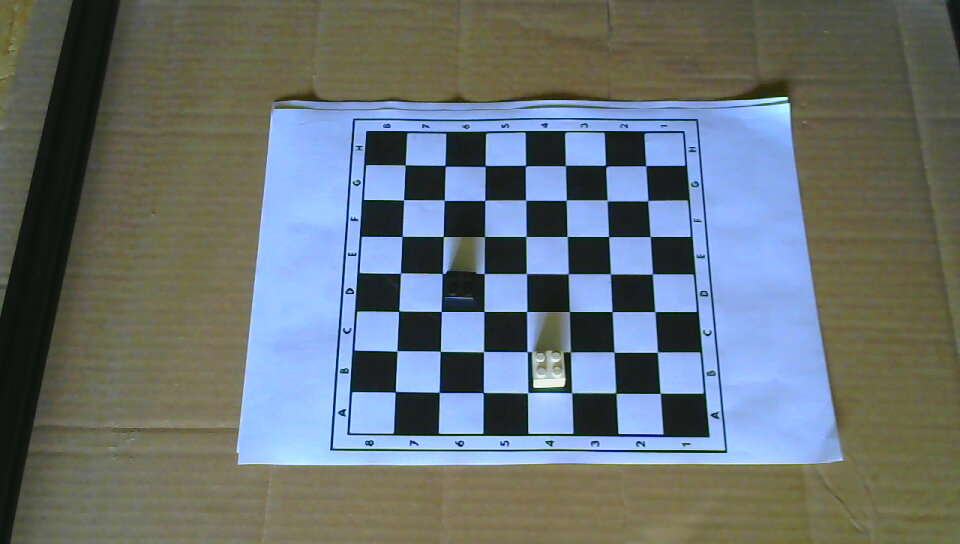bp: (443, 267, 479, 309)
wp: (529, 347, 567, 391)
